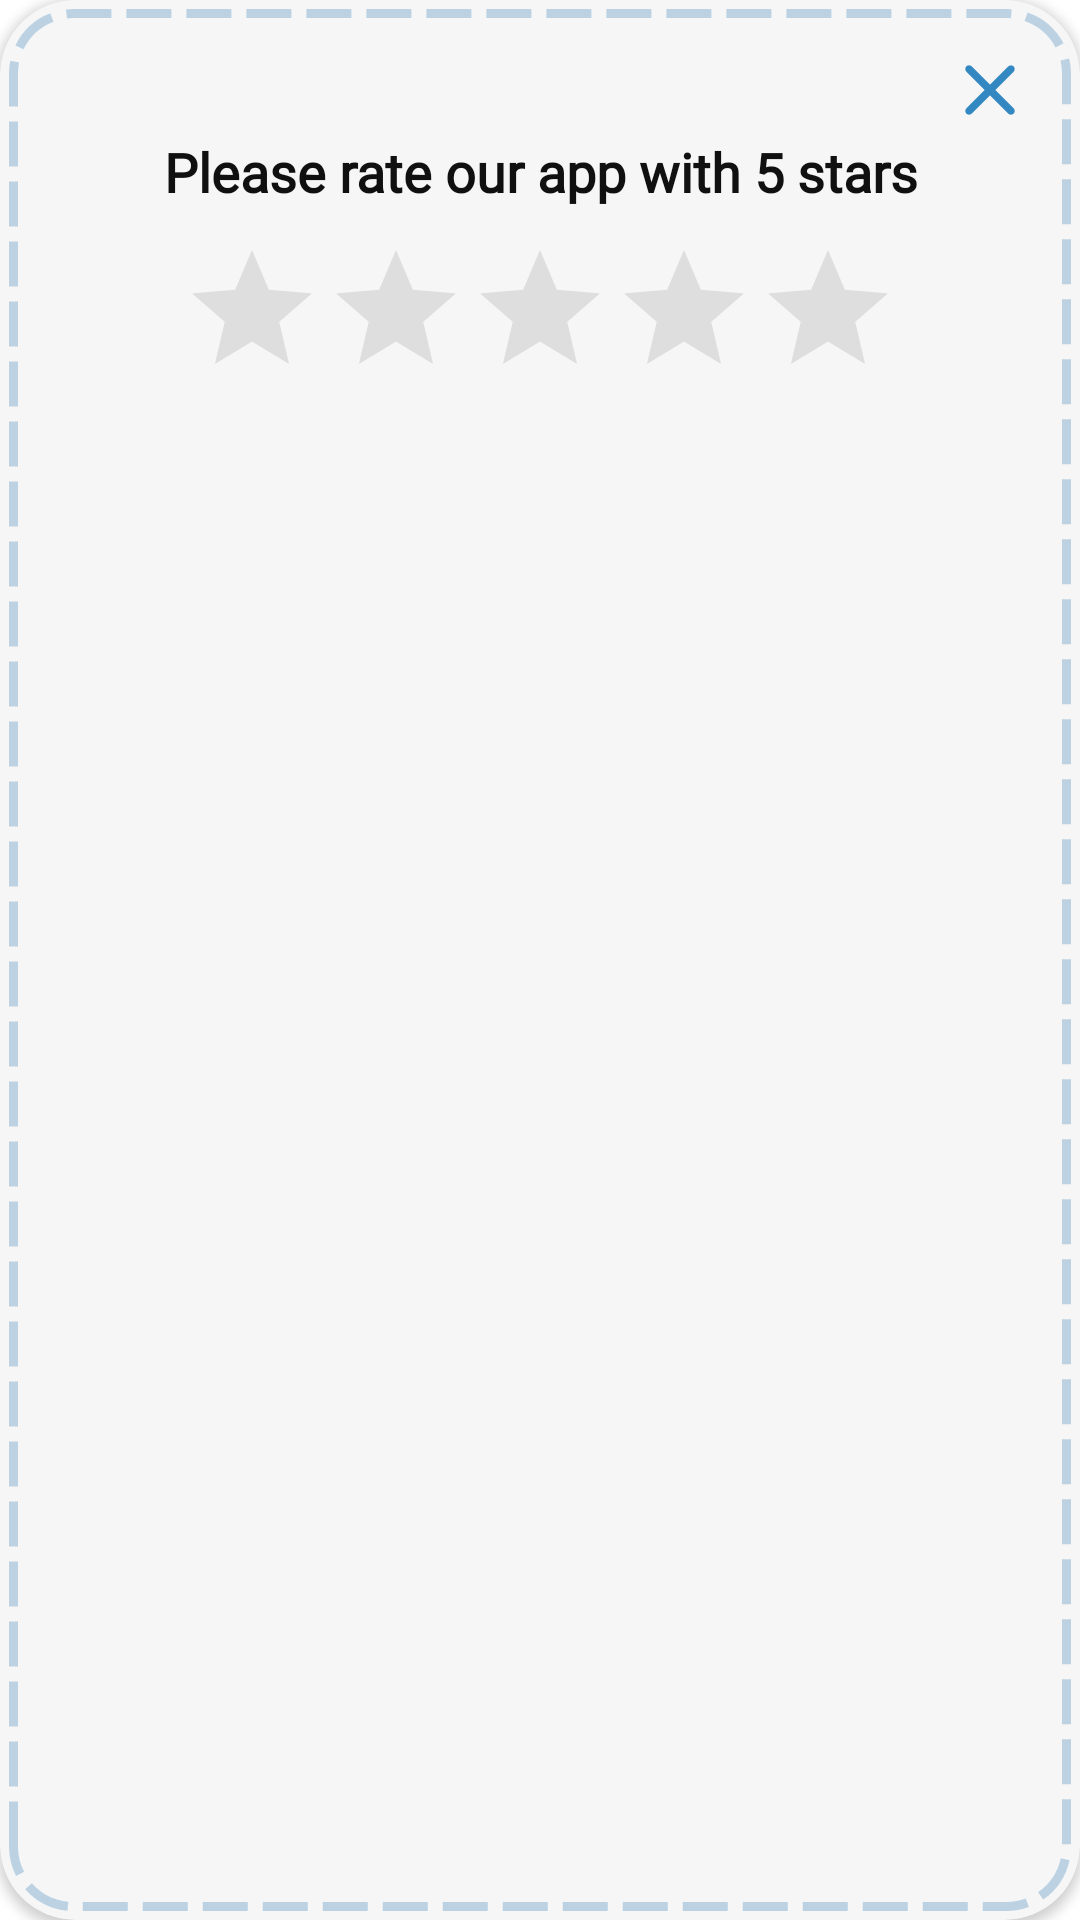

Where icons sit on this 1080×1920 app screen, as (x1, y1, x2, y2):
close: (965, 65, 1015, 115)
